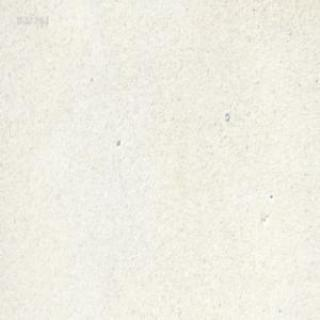Washertrack_idkeyframe: (223, 110, 229, 121)
